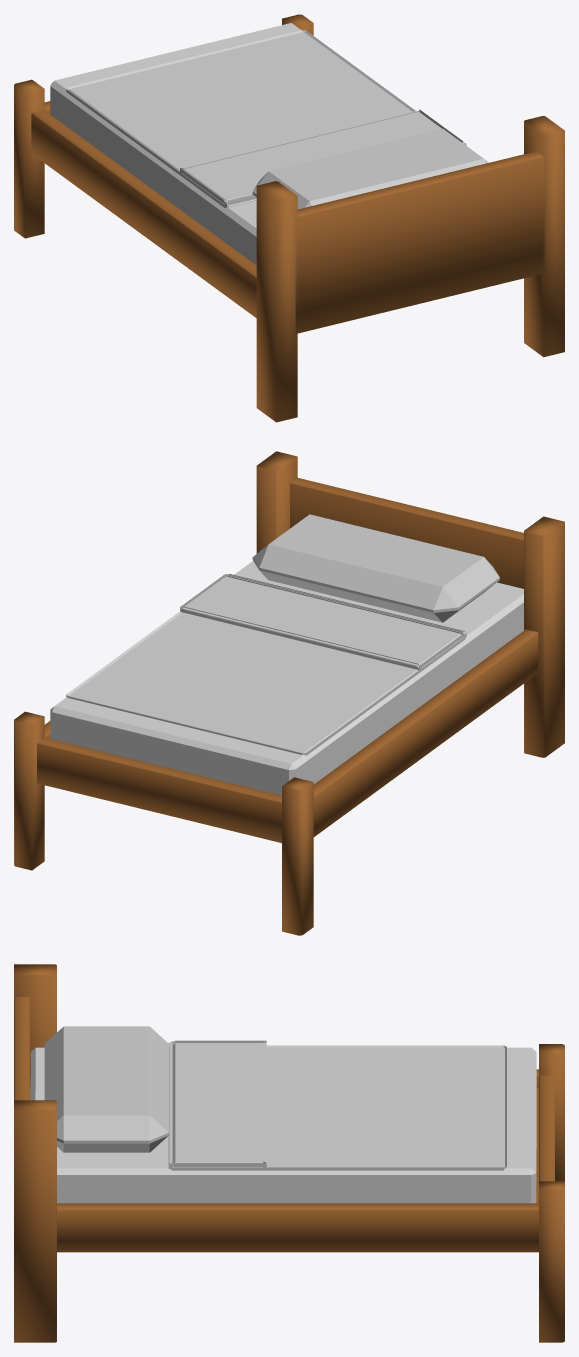
The model's file is Bett.glb.
3 renders of one model, top to bottom at view 1: azimuth 30°, elevation 25°; view 2: azimuth 150°, elevation 25°; view 3: azimuth 270°, elevation 25°, orthographic. The views are drawn at different scales.
Visible parts, largest first — view 1: Bett; view 2: Bett; view 3: Bett.
Part boxes in pixels (x1,y1,x2,y2): Bett: (14,14,564,422); Bett: (14,451,564,935); Bett: (14,964,564,1342).
Bounding box in the file's own units: 1.44 × 1.06 × 2.29.
